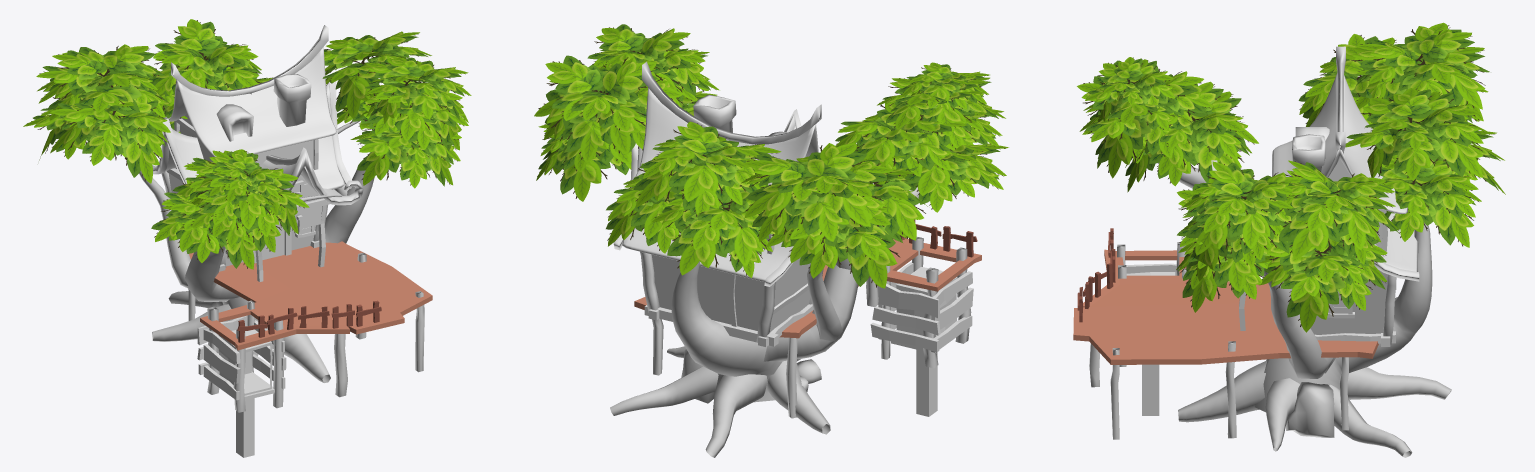
The model's file is TREE FIX.fbx.
The picture shows the model from 3 angles, left to right: view 1: azimuth 30°, elevation 25°; view 2: azimuth 150°, elevation 25°; view 3: azimuth 270°, elevation 25°; orthographic projection. The views are drawn at different scales.
Parts seen in each view (by area): view 1: Cube.071, BezierCurve.005, Cube.008, Leaf.016, Leaf.011, Leaf.000, Leaf.013, Leaf.010, Leaf.007, Leaf.009, Leaf.008, Leaf.002 (+20 smaller); view 2: BezierCurve.005, Leaf.016, Leaf.007, Leaf.000, Leaf.012, Cube.001, Leaf.005, Leaf.014, Leaf.010, Leaf.008, Leaf.009, Leaf.004 (+25 smaller); view 3: Cube.071, BezierCurve.005, Leaf.000, Leaf.007, Leaf.016, Leaf.010, Leaf.001, Leaf.009, Leaf.004, Leaf.014, Cube.008, Leaf.006 (+16 smaller).
Part boxes in pixels (x1,y1,x2,y2): Cube.071: (189,241,432,350); BezierCurve.005: (139,121,374,382); Cube.008: (163,47,336,156); Leaf.016: (36,44,168,138); Leaf.011: (50,83,170,183); Leaf.000: (149,19,261,96); Leaf.013: (350,104,461,188); Leaf.010: (364,57,471,123); Leaf.007: (322,31,431,118); Leaf.009: (189,150,309,236); Leaf.008: (151,175,258,269); Leaf.002: (360,80,468,150); BezierCurve.005: (610,187,919,457); Leaf.016: (741,143,893,241); Leaf.007: (534,55,682,163); Leaf.000: (633,121,781,216); Leaf.012: (651,185,775,277); Cube.001: (651,247,810,332); Leaf.005: (767,206,908,288); Leaf.014: (835,102,966,184); Leaf.010: (587,24,708,96); Leaf.008: (884,143,1008,212); Leaf.009: (877,77,1005,149); Leaf.004: (606,156,722,253); Cube.071: (1073,249,1378,364); BezierCurve.005: (1157,162,1451,457); Leaf.000: (1345,88,1486,180); Leaf.007: (1275,160,1398,264); Leaf.016: (1351,22,1489,127); Leaf.010: (1181,161,1301,260); Leaf.001: (1257,226,1387,332); Leaf.009: (1077,65,1212,178); Leaf.004: (1373,154,1481,247); Leaf.014: (1125,81,1258,182); Cube.008: (1272,72,1407,214); Leaf.006: (1085,57,1175,124).
Size of the model in its own units: 1349 by 1070 by 1217.
